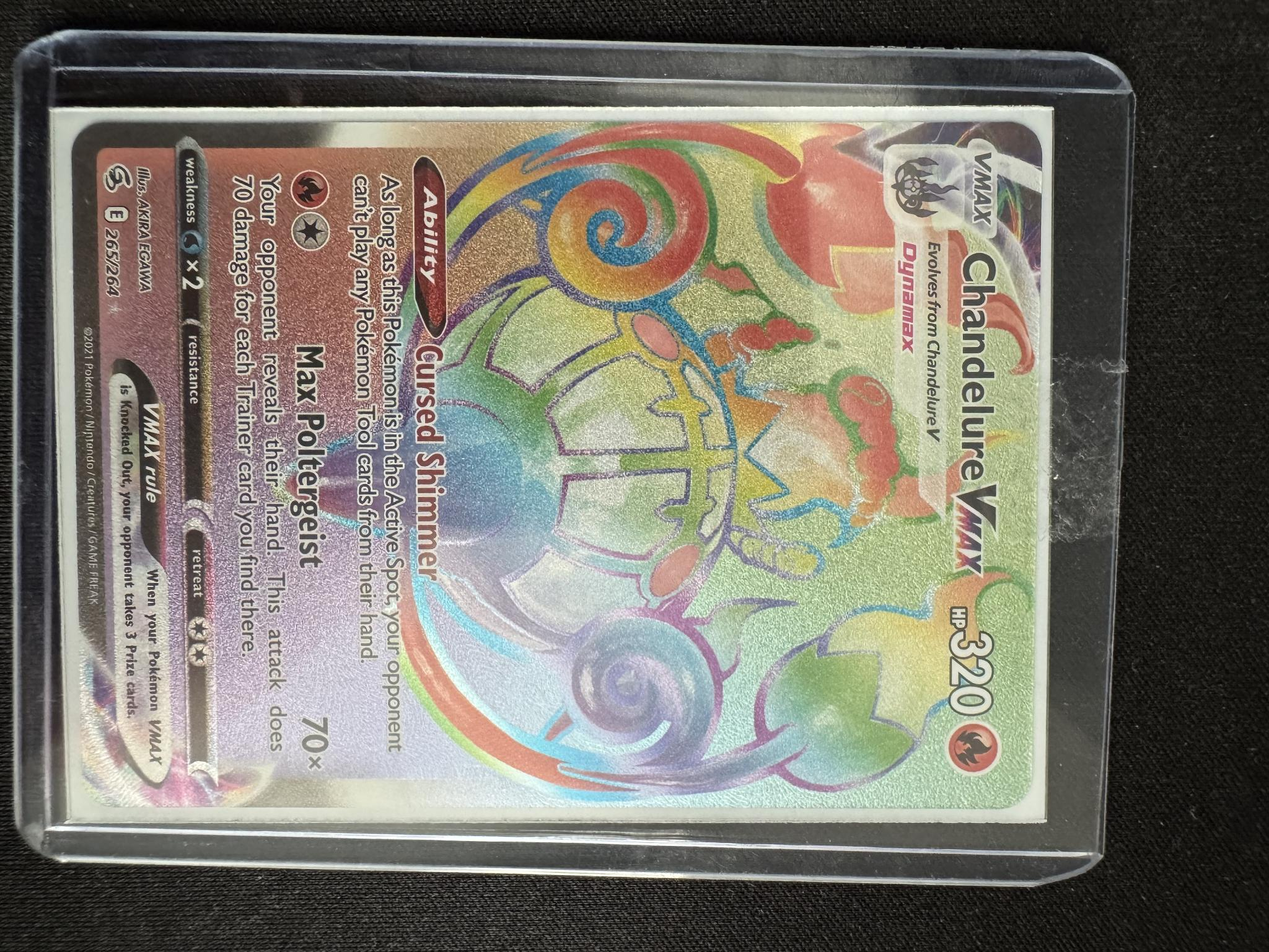card-2UtV: (71, 121, 1042, 810)
